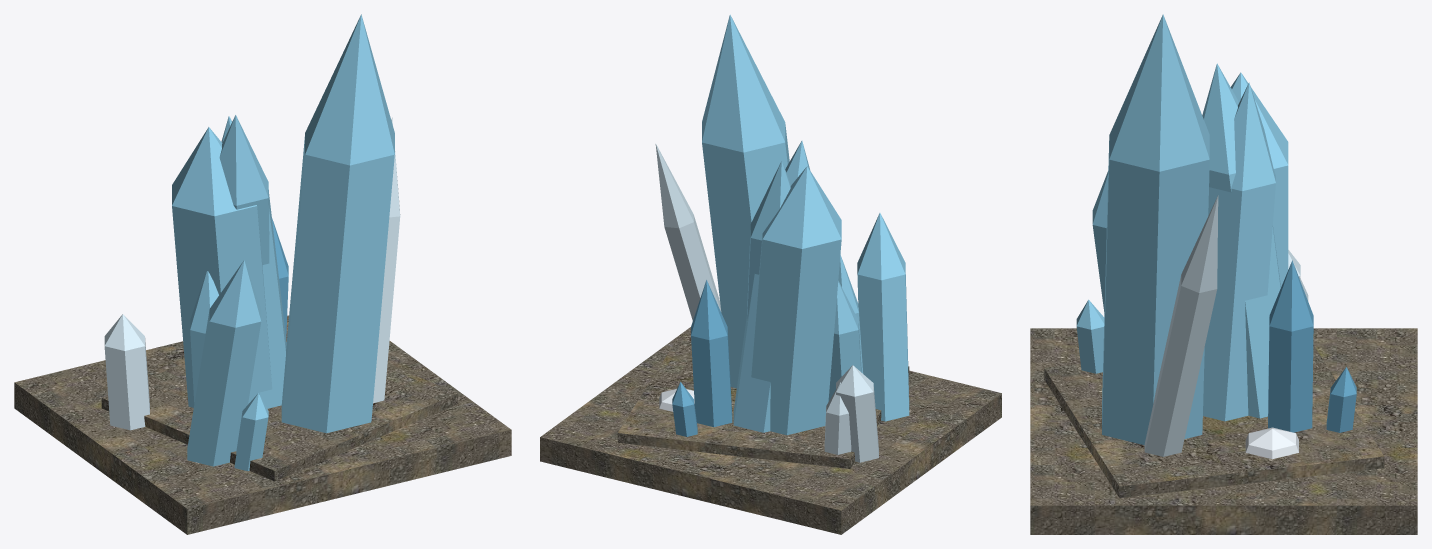
Rendered from crystalline.glb.
3 renders of one model, left to right at view 1: azimuth 30°, elevation 25°; view 2: azimuth 150°, elevation 25°; view 3: azimuth 270°, elevation 25°, orthographic. The views are drawn at different scales.
Visible parts, largest first — view 1: CrystCluster_Main, CrystBase, CrystSmallFront, CrystBase2, CrystTiny, CrystTall, CrystSmallBack; view 2: CrystCluster_Main, CrystBase, CrystSmallFront, CrystBase2, CrystSmallBack, CrystTall, CrystTiny; view 3: CrystCluster_Main, CrystBase, CrystBase2, CrystTall, CrystSmallBack, CrystSmallFront, Frost_0.
Boxes of the visible parts, x1,y1,x2,y2 form: CrystCluster_Main: [172, 14, 394, 433]; CrystBase: [14, 315, 511, 534]; CrystSmallFront: [187, 260, 268, 471]; CrystBase2: [101, 321, 457, 481]; CrystTiny: [104, 314, 149, 430]; CrystTall: [373, 117, 400, 403]; CrystSmallBack: [272, 218, 288, 338]; CrystCluster_Main: [702, 14, 863, 435]; CrystBase: [540, 327, 1001, 534]; CrystSmallFront: [828, 213, 909, 421]; CrystBase2: [617, 340, 909, 468]; CrystSmallBack: [672, 280, 732, 436]; CrystTall: [655, 143, 721, 320]; CrystTiny: [824, 365, 878, 462]; CrystCluster_Main: [1102, 14, 1288, 444]; CrystBase: [1030, 328, 1417, 534]; CrystBase2: [1044, 345, 1384, 497]; CrystTall: [1144, 195, 1218, 456]; CrystSmallBack: [1268, 260, 1356, 432]; CrystSmallFront: [1076, 171, 1108, 373]; Frost_0: [1245, 427, 1298, 459].
Size of the model in its own units: 1.3 by 1.61 by 1.2.
Materials: 6 (2 with a texture image).
